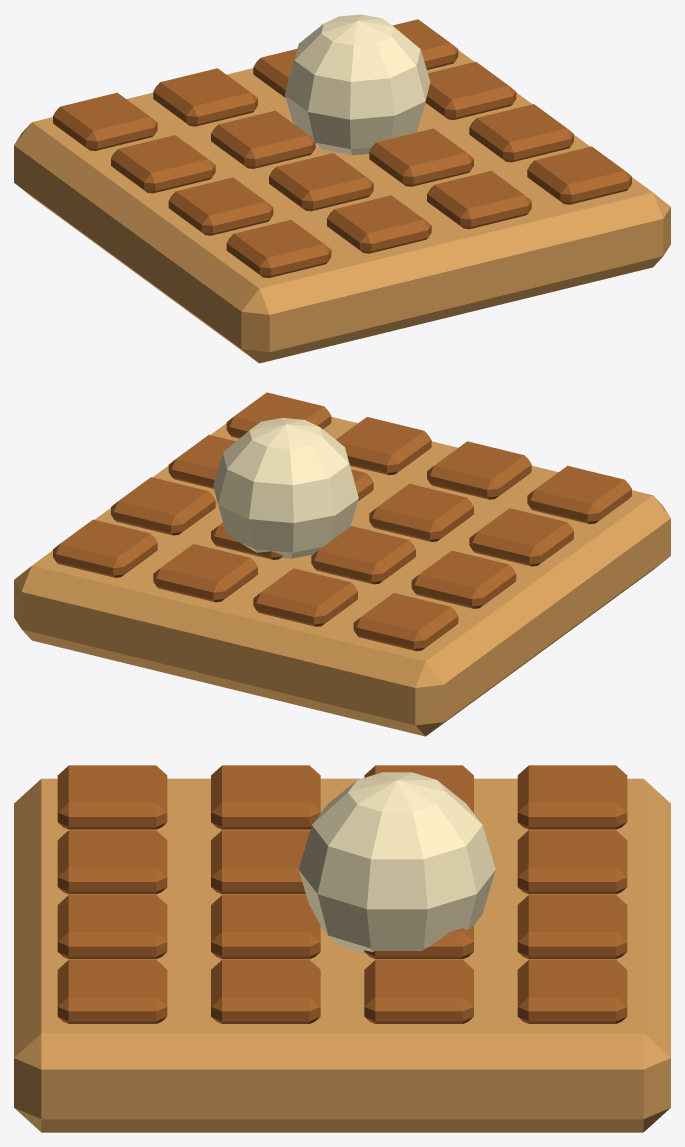
File: Waffle.fbx
3 views of the same model, one above another, from view 1: azimuth 30°, elevation 25°; view 2: azimuth 150°, elevation 25°; view 3: azimuth 270°, elevation 25° (orthographic). The views are drawn at different scales.
Parts seen in each view (by area): view 1: Waffle; view 2: Waffle; view 3: Waffle.
Boxes of the visible parts, x1,y1,x2,y2 form: Waffle: (14, 14, 670, 363); Waffle: (14, 392, 670, 736); Waffle: (14, 765, 670, 1132).
Size of the model in its own units: 1.2 by 0.5 by 1.2.
1 material, 1 textured.
